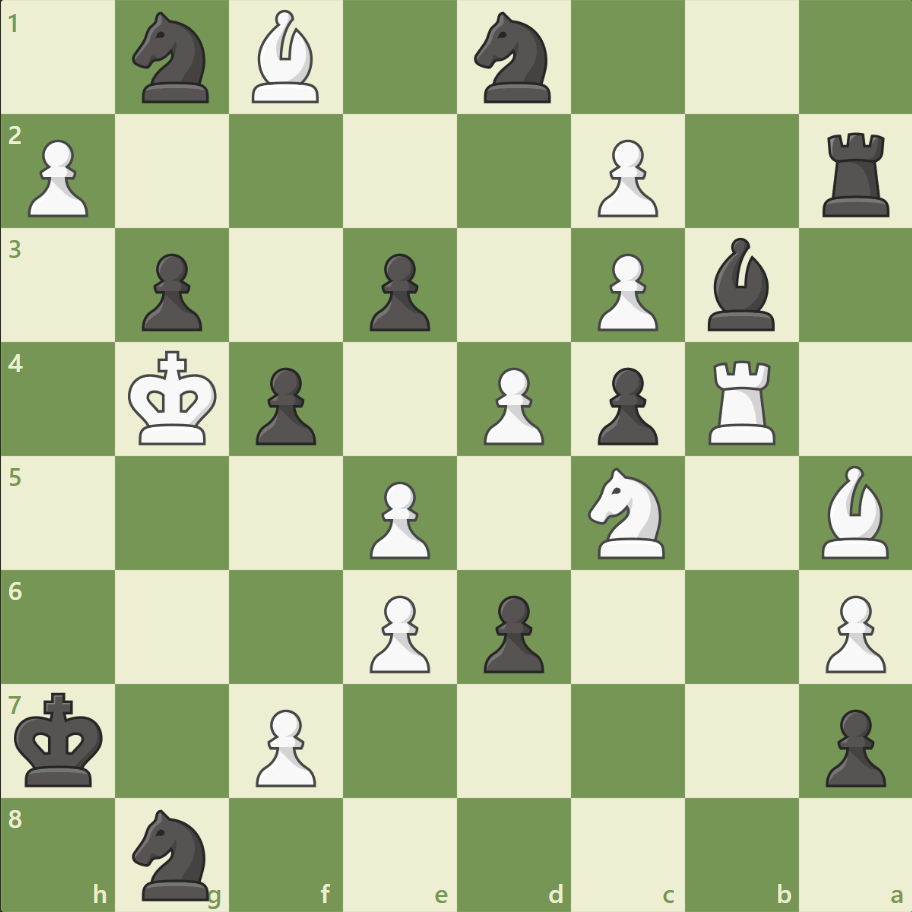B: (812, 460, 896, 563), (244, 6, 328, 109)
K: (124, 344, 224, 452)
N: (579, 461, 676, 564)
P: (247, 700, 322, 791), (474, 359, 549, 450), (20, 132, 95, 223), (815, 586, 889, 677), (361, 586, 435, 677), (361, 473, 435, 564), (588, 246, 662, 337), (588, 132, 662, 223)
R: (700, 352, 783, 449)
b: (698, 233, 782, 336)
k: (11, 685, 111, 793)
n: (124, 7, 222, 110), (124, 802, 222, 904), (465, 7, 562, 110)
p: (474, 586, 549, 677), (247, 359, 322, 450), (133, 246, 208, 337), (815, 700, 889, 791), (588, 359, 662, 450), (361, 246, 435, 337)
r: (814, 125, 897, 222)
